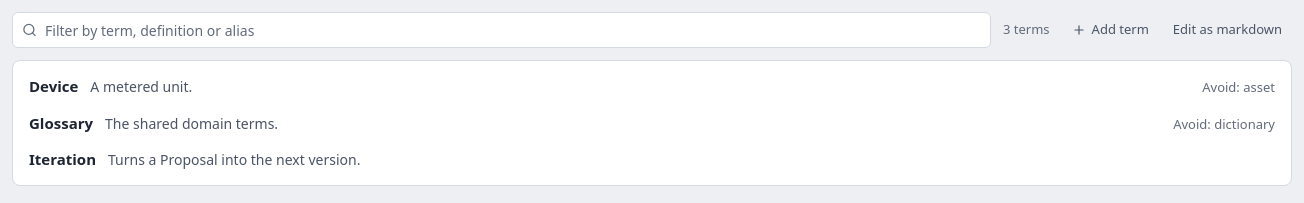
Test: GlossaryPanel › on a long Glossary › says when nothing matches
In the search field named "Filter terms": coordinates (502, 30) x1=12 y1=12 x2=991 y2=48, type "zzz"
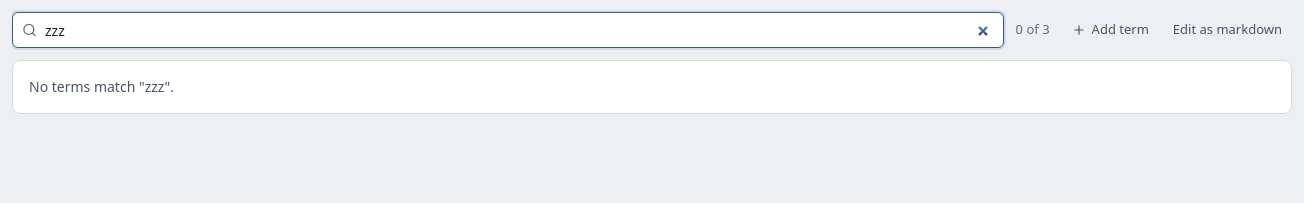
Now the text "No terms match \"zzz\"." is shown, box x1=29 y1=77 x2=174 y2=96
